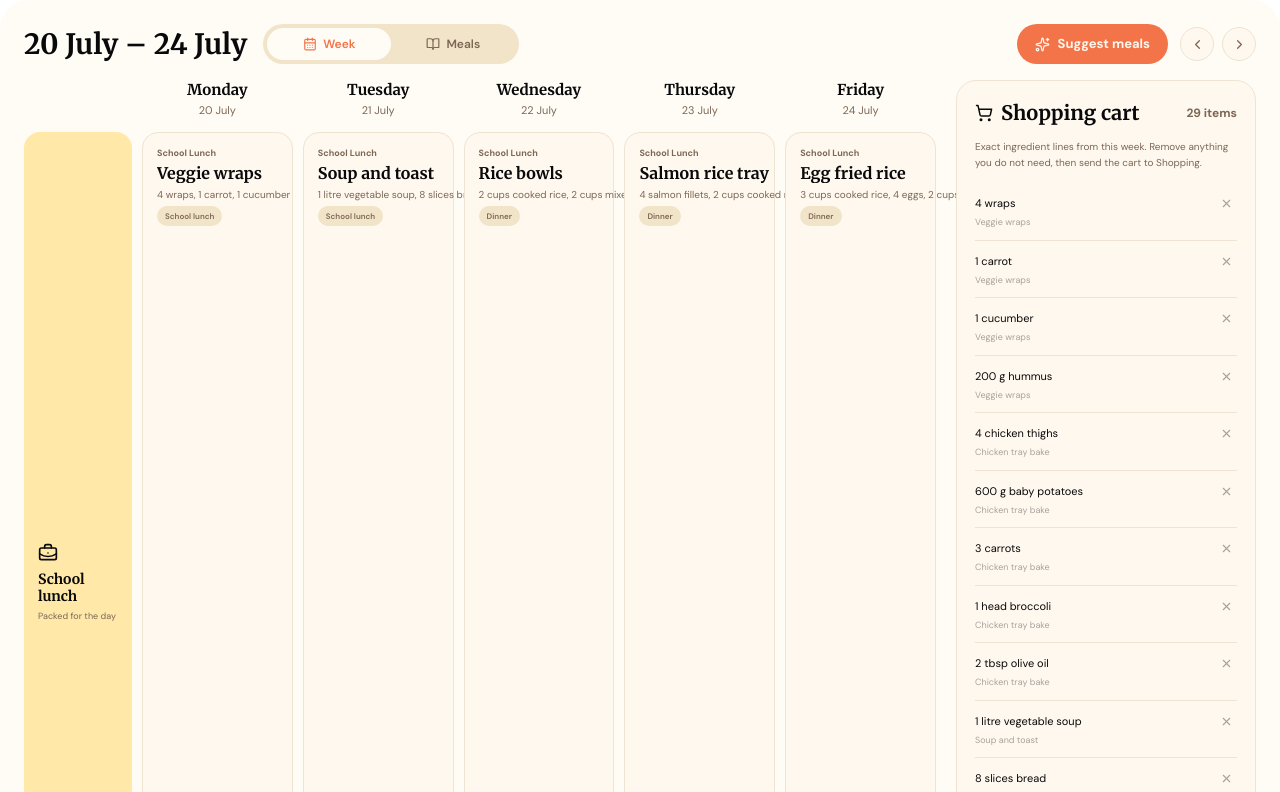
Test: WeekRoute › offers suggestions only for weeks covered by the schedule planning horizon
Check: the button "Suggest meals" is shown, box [1017, 24, 1168, 64]
Click the button named "Next week" at point(1239, 44), box [1222, 27, 1256, 61]
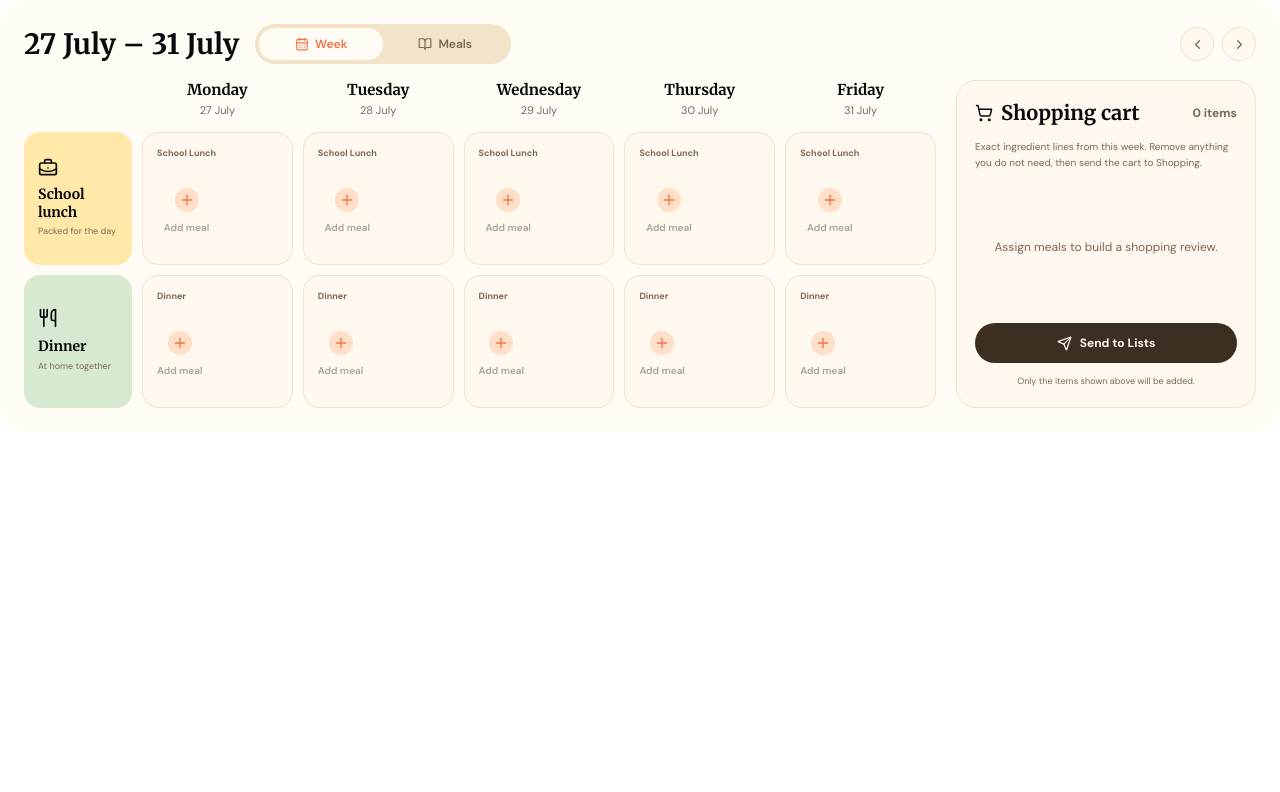
Check: the button "Suggest meals" is gone
